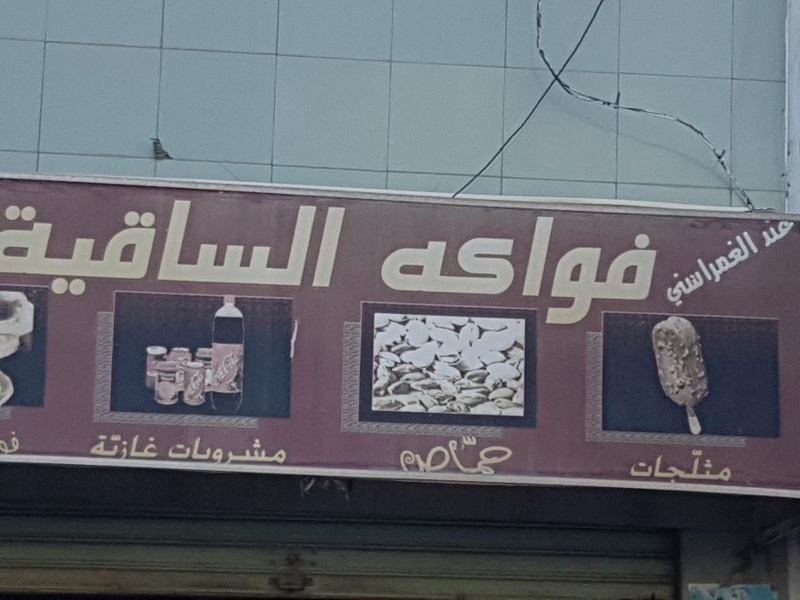text: (401, 205, 416, 331), (417, 205, 432, 331), (433, 205, 448, 331), (449, 205, 464, 331), (465, 205, 480, 331), (481, 205, 496, 331), (497, 205, 512, 331), (513, 205, 528, 331), (529, 205, 544, 331), (545, 205, 560, 331), (561, 205, 576, 331), (577, 205, 592, 331), (593, 205, 608, 331), (609, 205, 624, 331), (625, 205, 640, 331), (641, 205, 656, 331), (1, 193, 16, 305), (17, 193, 32, 305), (33, 193, 48, 305), (49, 193, 64, 305), (65, 193, 80, 305), (81, 193, 96, 305), (97, 193, 112, 305), (113, 193, 128, 305), (129, 193, 144, 305), (145, 193, 160, 305), (161, 193, 176, 305), (177, 193, 192, 305), (193, 193, 208, 305), (209, 193, 224, 305), (225, 193, 240, 305), (241, 193, 256, 305), (257, 193, 272, 305), (273, 193, 288, 305), (289, 193, 304, 305), (305, 193, 320, 305), (321, 193, 336, 305), (673, 231, 688, 312), (689, 231, 704, 312), (705, 231, 720, 312), (721, 231, 736, 312), (737, 231, 752, 312), (337, 193, 347, 305), (661, 231, 672, 312), (394, 205, 400, 331), (657, 205, 663, 331), (753, 231, 761, 312), (641, 448, 656, 491), (657, 448, 672, 491), (673, 448, 688, 491), (689, 448, 704, 491), (705, 448, 720, 491), (401, 435, 416, 477), (417, 435, 432, 477), (433, 435, 448, 477), (449, 435, 464, 477), (465, 435, 480, 477), (481, 435, 496, 477), (497, 435, 512, 477), (769, 210, 784, 250), (177, 431, 192, 470), (193, 431, 208, 470), (209, 431, 224, 470), (225, 431, 240, 470), (241, 431, 256, 470), (257, 431, 272, 470), (273, 431, 288, 470), (754, 210, 768, 250), (97, 429, 112, 465), (113, 429, 128, 465), (129, 429, 144, 465), (145, 429, 160, 465), (785, 210, 798, 250), (721, 448, 732, 491), (1, 430, 16, 457), (171, 431, 176, 470), (636, 448, 640, 491), (93, 429, 96, 465), (17, 430, 21, 457), (289, 431, 291, 470), (513, 435, 514, 477), (161, 429, 162, 465)
